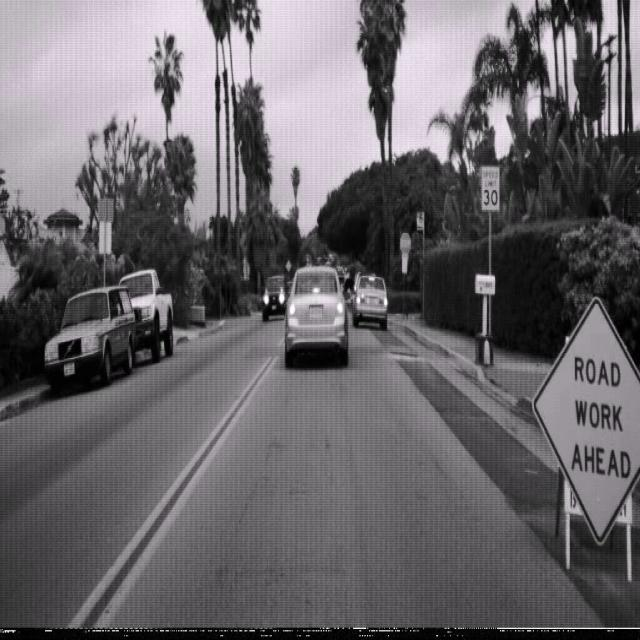speedLimit30: (481, 164, 500, 211)
